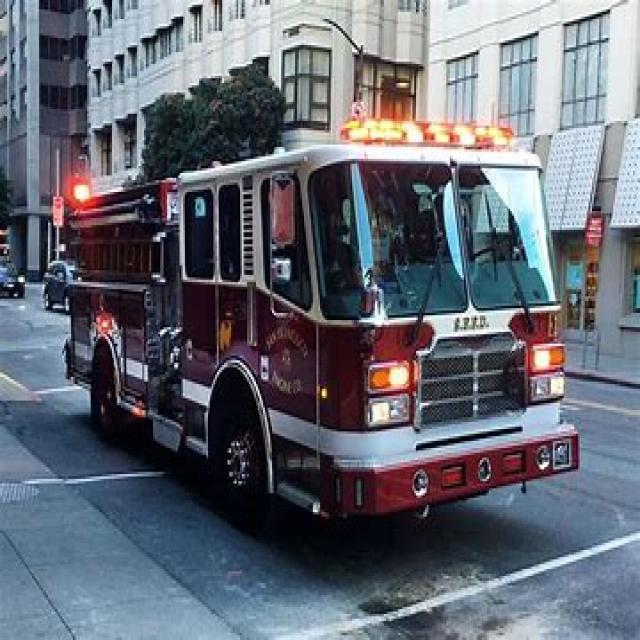Fire-engine: (61, 104, 580, 529)
